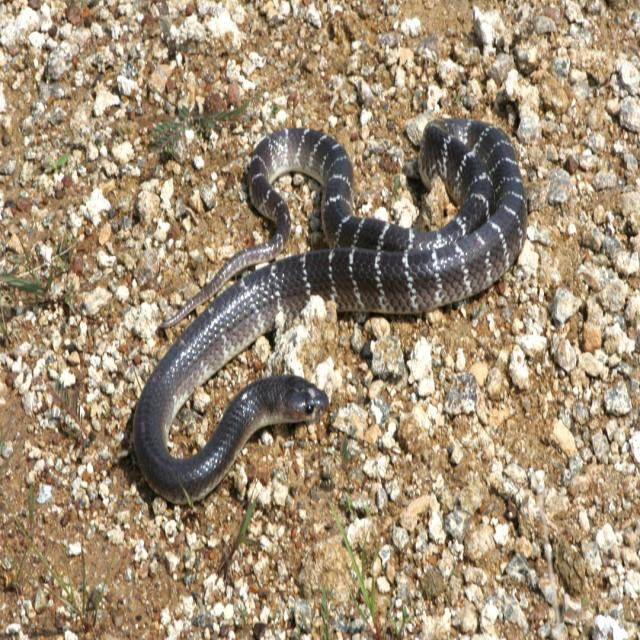Snake: (132, 116, 528, 506)
